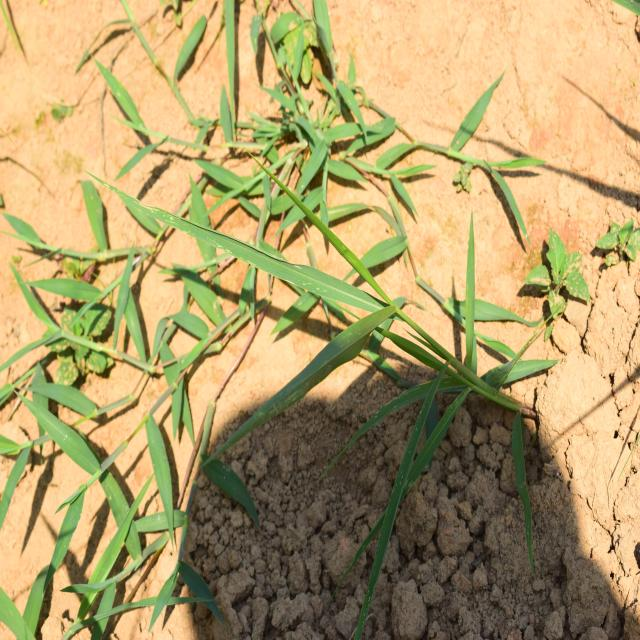green_foxtail: (216, 191, 498, 510)
